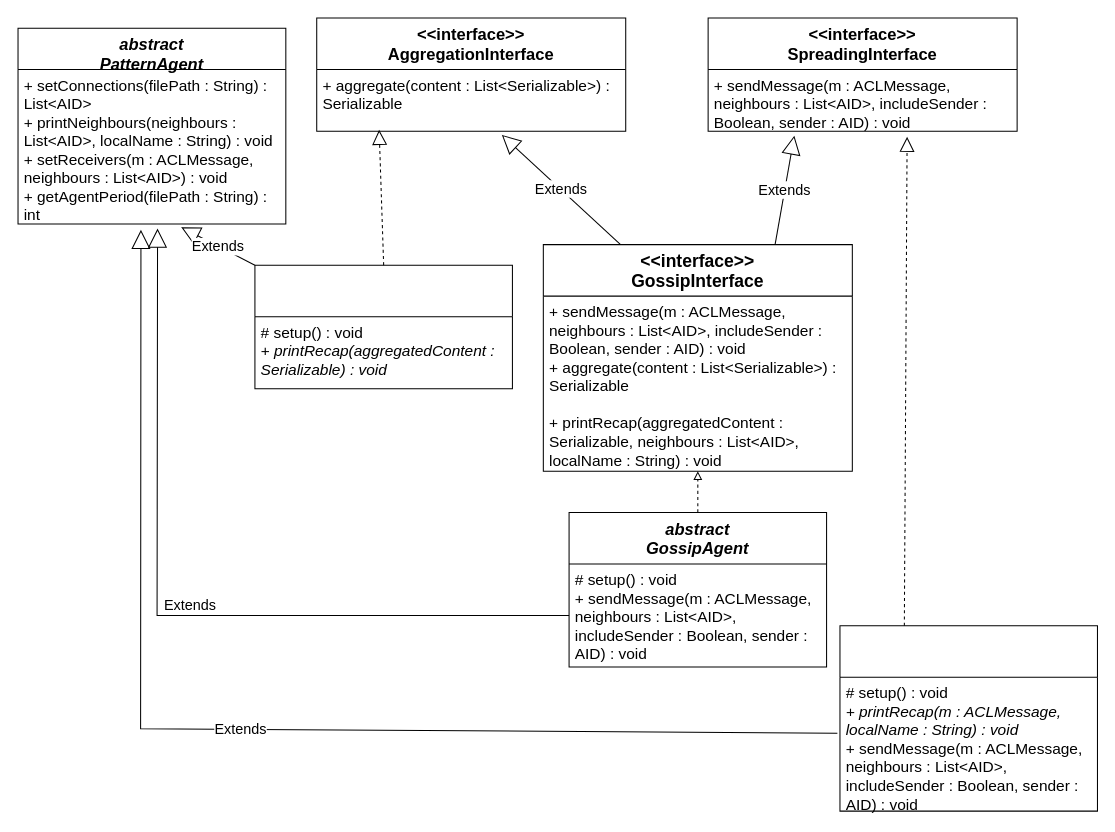
The diagram is 1115 pixels wide and 832 high, and some of its shapes have lost their labels. Each missing label, with the box of its shape:
abstract AggregationAgent: (254, 264, 512, 389)
abstract SpreadingAgent: (839, 625, 1097, 811)
